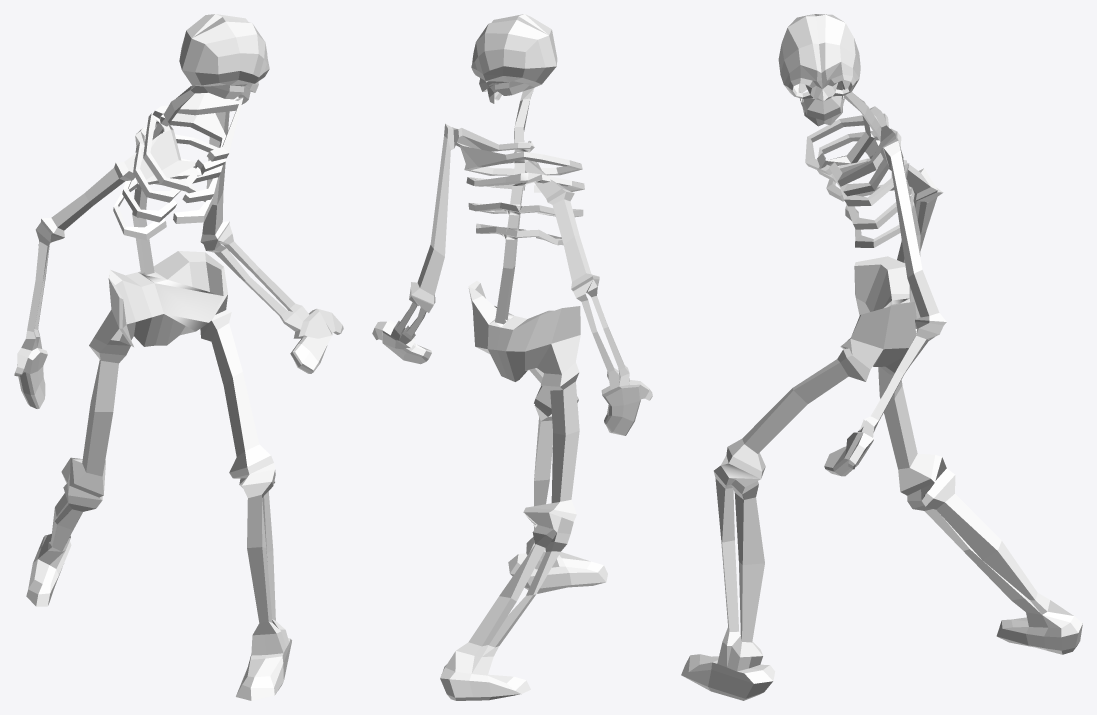
Rendered from SkeletonIdle(30).obj.
3 views of the same model, side by side, from view 1: azimuth 30°, elevation 25°; view 2: azimuth 150°, elevation 25°; view 3: azimuth 270°, elevation 25° (orthographic). The views are drawn at different scales.
Parts seen in each view (by area): view 1: Object002; view 2: Object002; view 3: Object002.
Boxes of the visible parts, <box> form: Object002: <box>14,14,343,700</box>; Object002: <box>372,14,652,700</box>; Object002: <box>681,14,1082,700</box>.
Size of the model in its own units: 571 by 1111 by 603.
